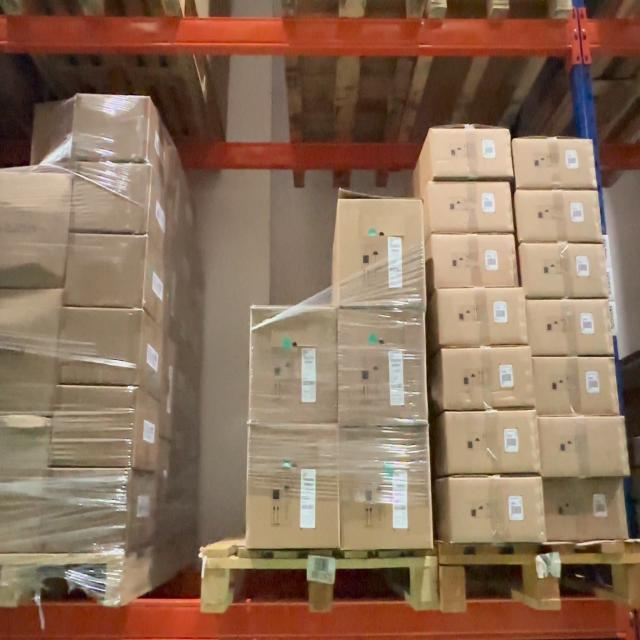box: (248, 430, 337, 547), (342, 430, 429, 548), (252, 311, 336, 425), (341, 312, 424, 422), (342, 196, 421, 303), (50, 471, 125, 551), (56, 386, 131, 461), (453, 482, 541, 544), (71, 236, 142, 308), (444, 348, 530, 407), (449, 411, 536, 469), (61, 315, 136, 380), (440, 292, 526, 342), (543, 418, 624, 471), (79, 168, 147, 230), (549, 482, 623, 538), (534, 359, 617, 408), (76, 102, 144, 158), (532, 302, 608, 352), (435, 237, 513, 284), (516, 142, 592, 188), (525, 246, 604, 290), (434, 183, 508, 229), (519, 196, 600, 238), (436, 130, 510, 172)
